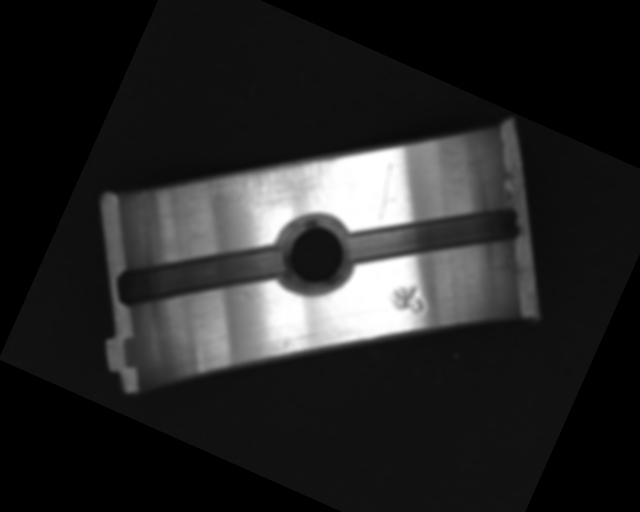bruise: (384, 272, 434, 320)
gap: (108, 193, 293, 358), (341, 154, 526, 315)
hole: (260, 203, 367, 312)
nick: (365, 162, 406, 224)
scratch: (194, 109, 344, 249)
